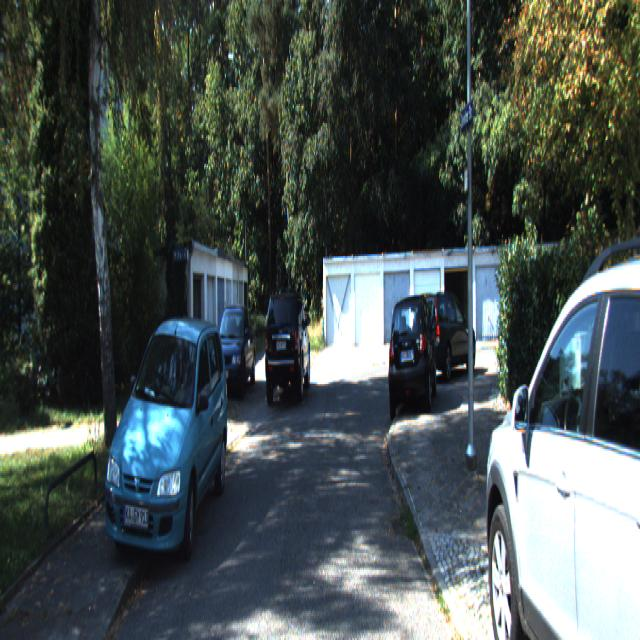Car: (480, 214, 640, 638), (104, 313, 230, 570), (411, 283, 475, 380), (388, 288, 435, 413), (263, 290, 309, 402), (210, 306, 256, 400)
